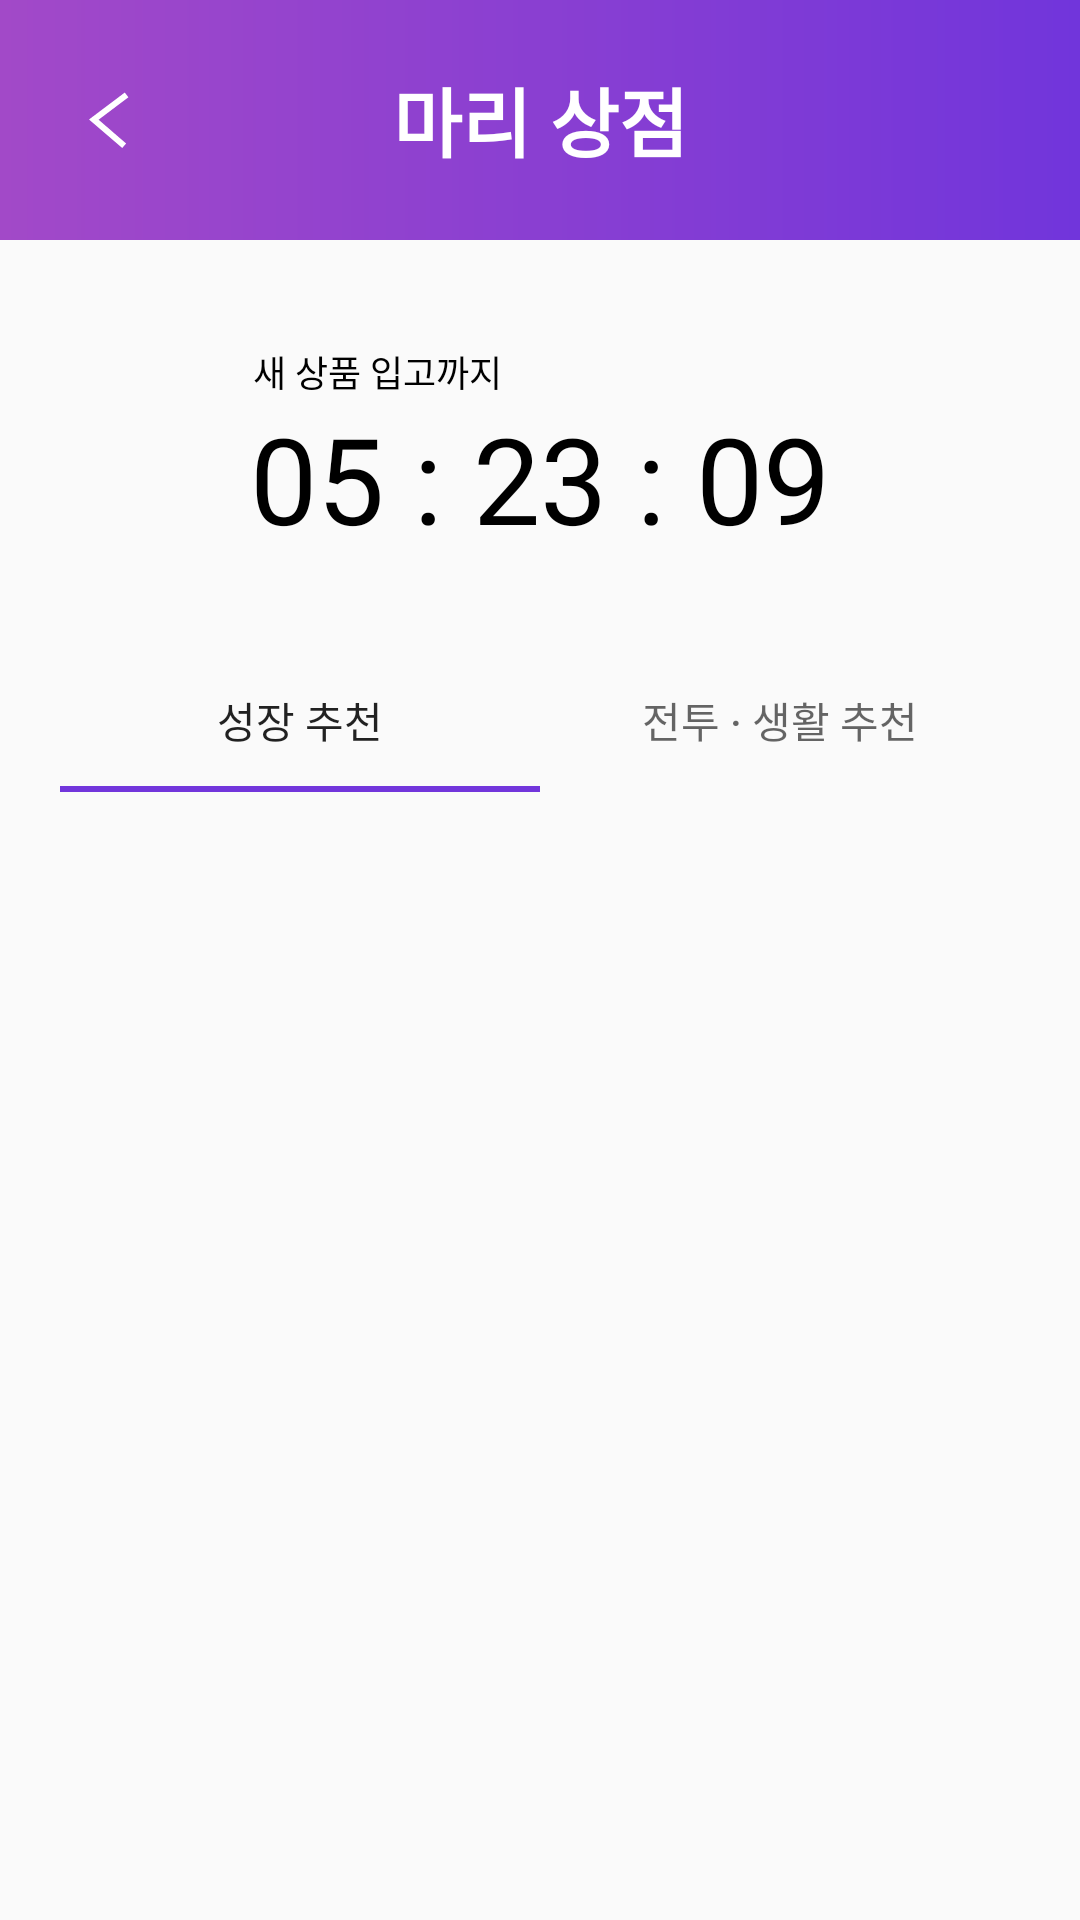

Where icons sit on this 1080px x 1920px app screen, as (x1=x1, y1=y1, x2=x2, y2=y2):
back: (x1=89, y1=92, x2=129, y2=148)
